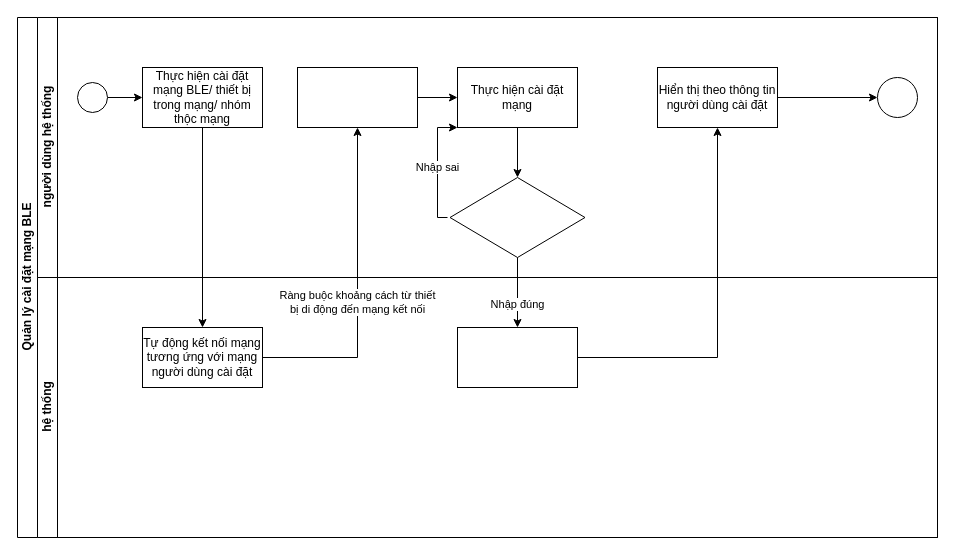
Image size: 955x555. Some labels were removed from this diagram. The centre of each missing label's shape, as x and y in pixels:
Check trùng tên khu vực/ thiết bị/ nhóm: pixel 517 217
Chỉnh sửa thông tin/ thiết lập cài đặt thành công: pixel 517 357
Thông báo đến người dùng mạng nằm ngoài vùng phủ sóng: pixel 357 97
